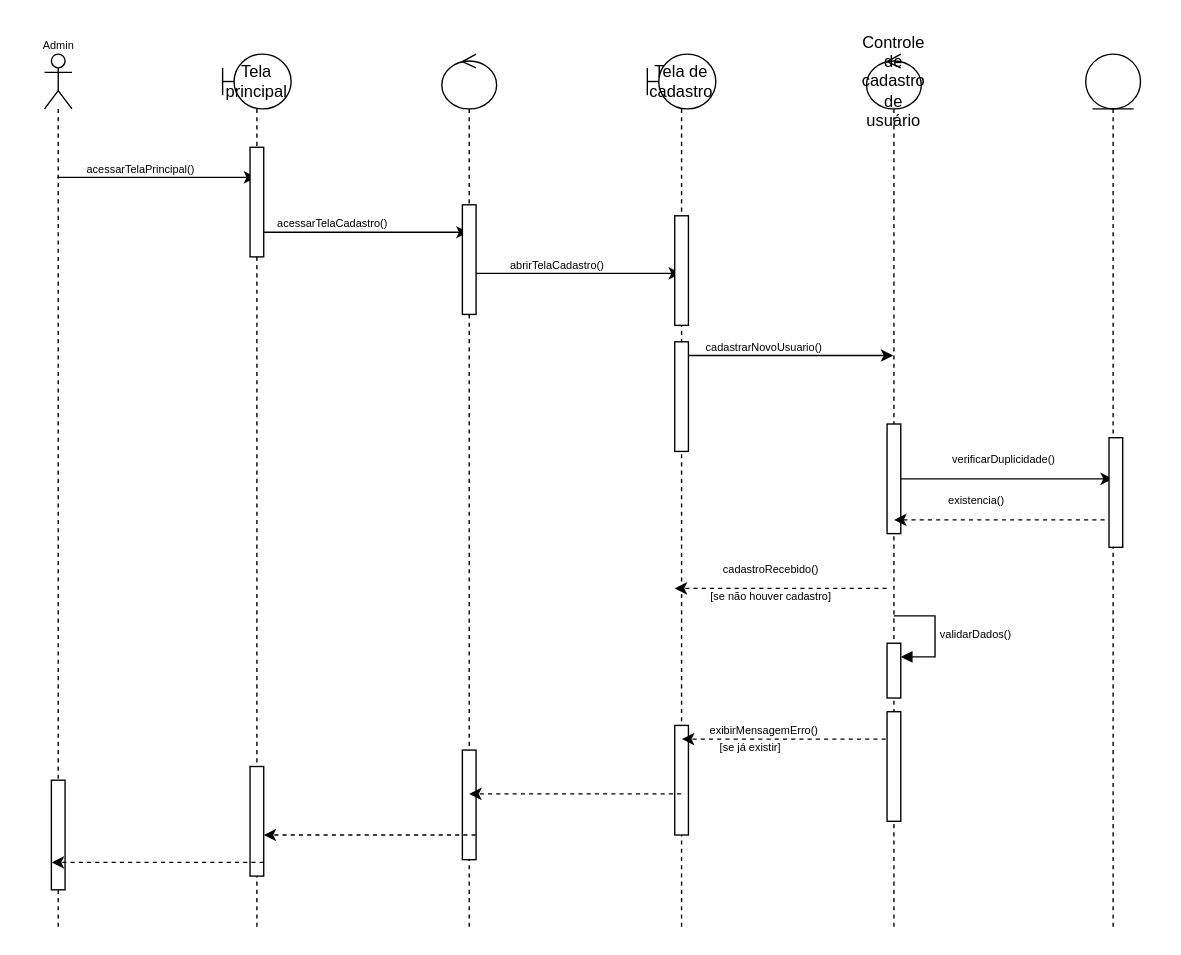
The diagram is 1181 pixels wide and 955 high, and some of its shapes have lost their labels. The shapes that lost their labels are listed below. From the top down, each one's box as (x1, y1, x2, y2) in pixels, then its label:
(440, 53, 497, 931): Controle de acesso
(1084, 53, 1141, 931): Usuários cadastrados
